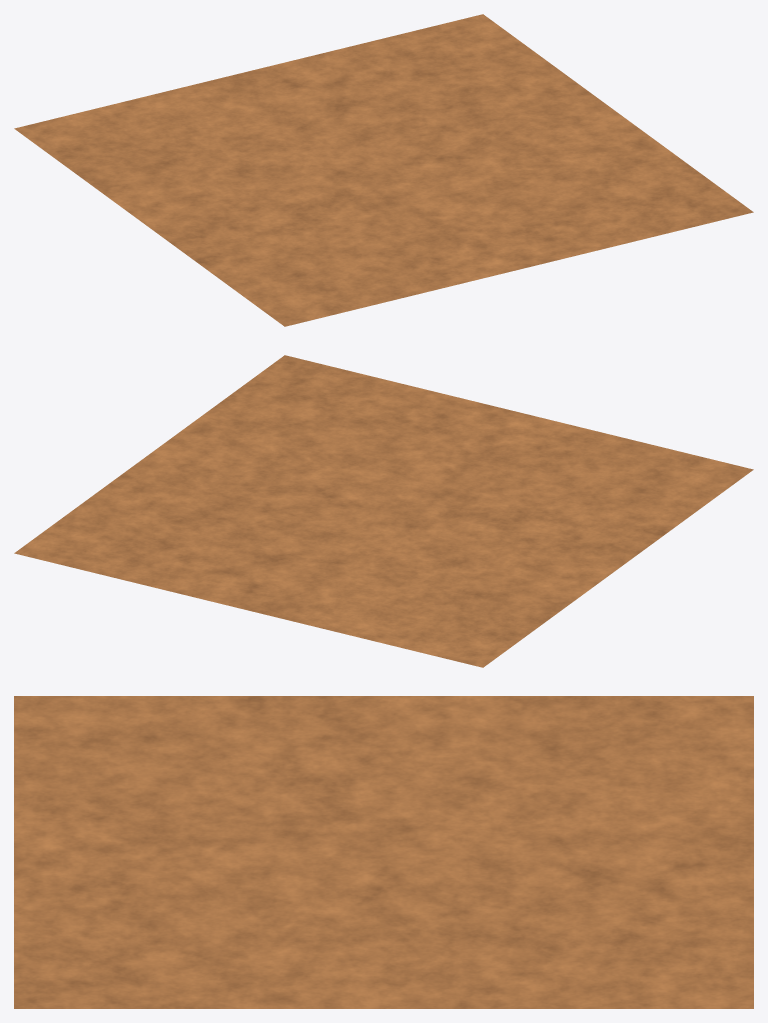
The model's file is dirt1.glb.
3 views of the same model, one above another, from view 1: azimuth 30°, elevation 25°; view 2: azimuth 150°, elevation 25°; view 3: azimuth 270°, elevation 25° (orthographic). The views are drawn at different scales.
Visible parts, largest first — view 1: ground; view 2: ground; view 3: ground.
Part boxes in pixels (bbox=[...]): ground: bbox=[14, 14, 753, 326]; ground: bbox=[14, 355, 753, 667]; ground: bbox=[14, 696, 753, 1008].
Size of the model in its own units: 2 by 0 by 2.
1 material, 1 textured.
